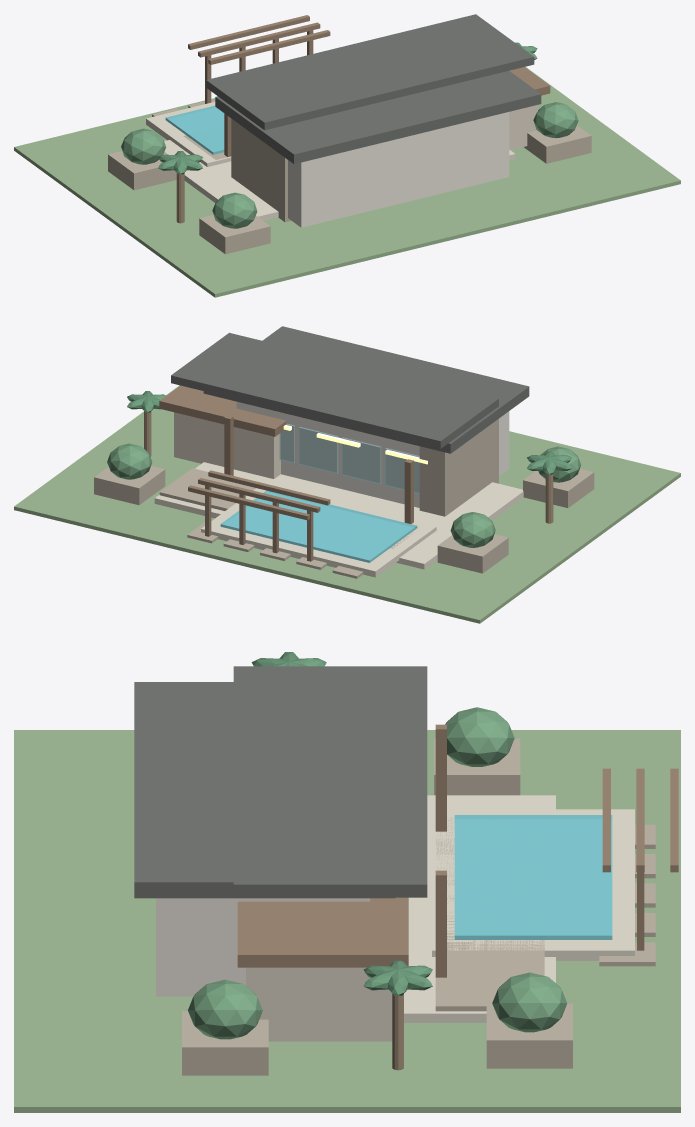
The model's file is clubhouse.glb.
3 views of the same model, one above another, from view 1: azimuth 30°, elevation 25°; view 2: azimuth 150°, elevation 25°; view 3: azimuth 270°, elevation 25° (orthographic). The views are drawn at different scales.
Visible parts, largest first — view 1: landscape_plinth, arrival_canopy, main_volume, main_roof, stone_feature_wall, limestone_deck, planter_0, pool_water, planter_1, planter_2, pool_surround, shrub_0 (+8 smaller); view 2: landscape_plinth, arrival_canopy, main_volume, main_roof, pool_water, limestone_deck, stone_feature_wall, east_wing, pool_surround, wing_roof, planter_3, planter_2 (+14 smaller); view 3: landscape_plinth, arrival_canopy, main_roof, pool_water, wing_roof, east_wing, pool_surround, main_volume, terrace, limestone_deck, planter_3, planter_1 (+11 smaller).
Boxes of the visible parts, x1,y1,x2,y2 form: landscape_plinth: (14, 66, 680, 297); arrival_canopy: (206, 14, 534, 130); main_volume: (288, 112, 509, 227); main_roof: (215, 71, 541, 164); stone_feature_wall: (231, 118, 291, 222); limestone_deck: (164, 140, 515, 220); planter_0: (199, 215, 270, 254); pool_water: (165, 105, 224, 154); planter_1: (524, 125, 591, 163); planter_2: (108, 151, 176, 190); pool_surround: (146, 102, 231, 166); shrub_0: (212, 192, 257, 228); landscape_plinth: (14, 385, 680, 623); arrival_canopy: (171, 332, 498, 448); main_volume: (236, 401, 509, 507); main_roof: (203, 326, 529, 453); pool_water: (220, 490, 417, 562); limestone_deck: (154, 462, 523, 569); stone_feature_wall: (419, 419, 498, 516); east_wing: (174, 412, 280, 478); pool_surround: (201, 488, 436, 577); wing_roof: (159, 385, 286, 436); planter_3: (94, 466, 165, 504); planter_2: (437, 534, 508, 573); landscape_plinth: (14, 730, 680, 1112); arrival_canopy: (233, 666, 427, 897); main_roof: (134, 682, 394, 898); pool_water: (454, 815, 612, 939); wing_roof: (237, 897, 408, 967); east_wing: (246, 967, 392, 1041); pool_surround: (432, 809, 634, 960); main_volume: (156, 898, 369, 996); terrace: (435, 817, 544, 1011); limestone_deck: (404, 795, 555, 1022); planter_3: (486, 1003, 572, 1068); planter_1: (182, 1011, 268, 1075).
Size of the model in its own units: 4.75 by 0.958 by 3.55.
